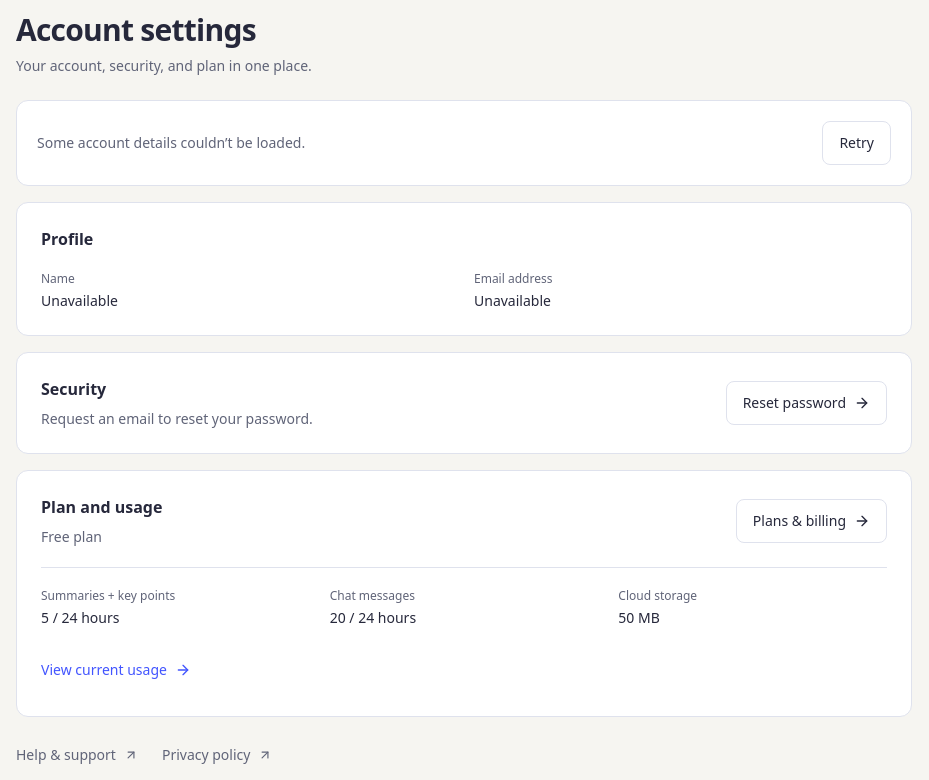
Test: account settings › keeps available plan details when profile fails and supports retry
Expected: the message "Some account details couldn’t be loaded. Retry" is shown, [16,100,912,186]
Expected: the text "Free plan" is shown, [41,527,102,546]
What coordinates should you click on to do the following:
click the button "Retry"
I would click on:
 (857, 143)
Its box is [822,121,891,165].
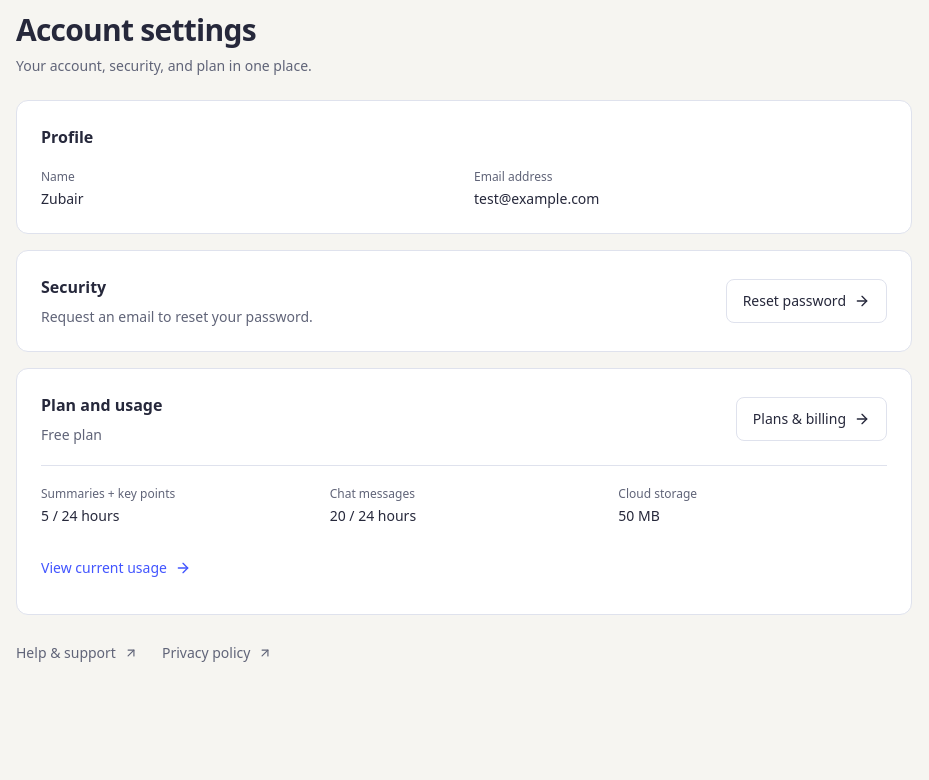
Expected: the text "test@example.com" is shown, [474,189,599,208]
Expected: the message "Some account details couldn’t be loaded. Retry" is gone
